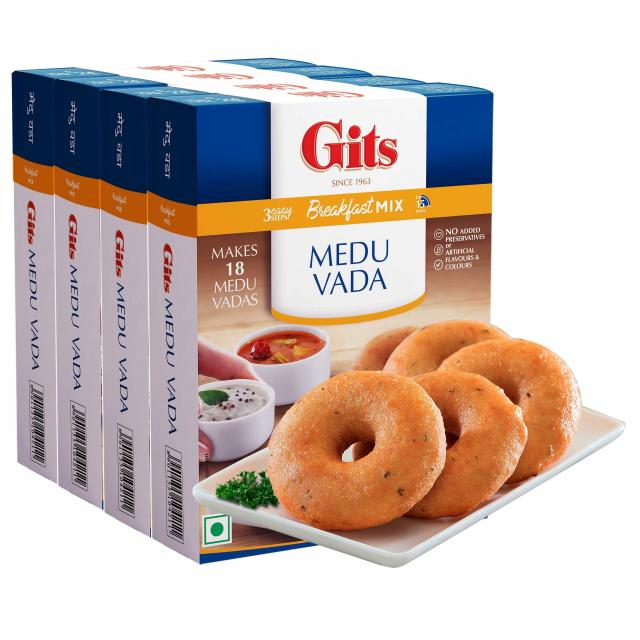MEDU VADA: (268, 371, 445, 530), (438, 339, 581, 484), (406, 371, 527, 518)
